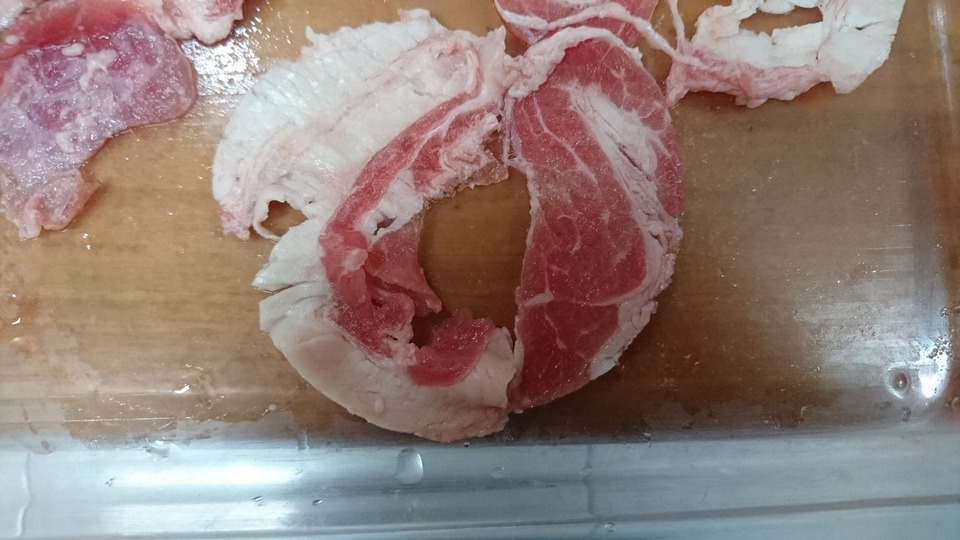restructured meat: (207, 17, 685, 439)
